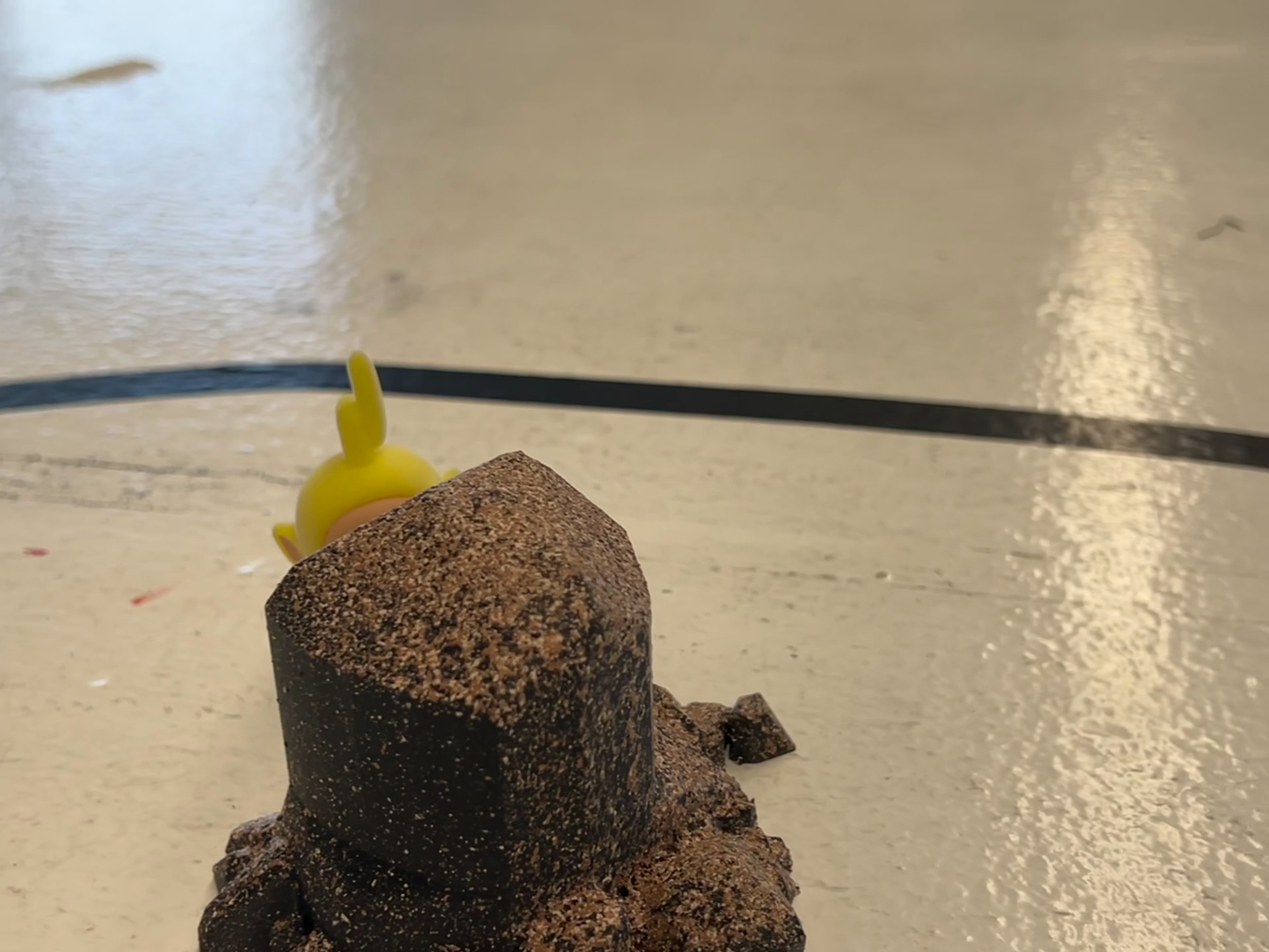teletubby: (272, 352, 459, 563)
